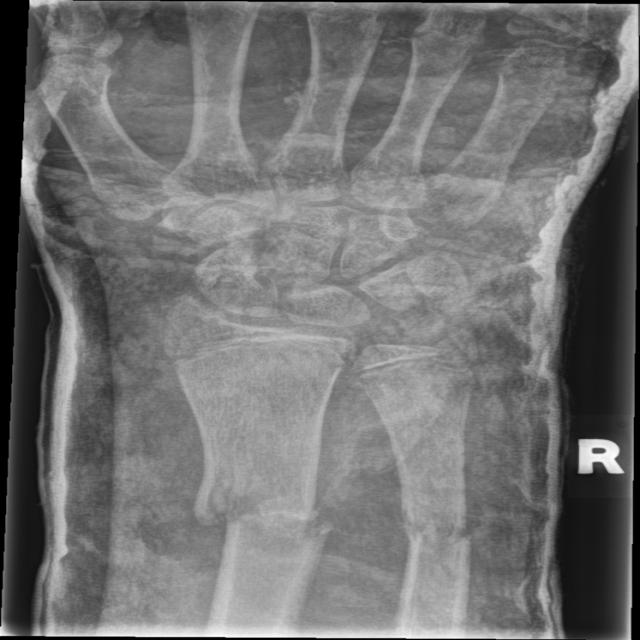radius fracture: (187, 457, 348, 577)
ulna fracture: (381, 494, 485, 573)
